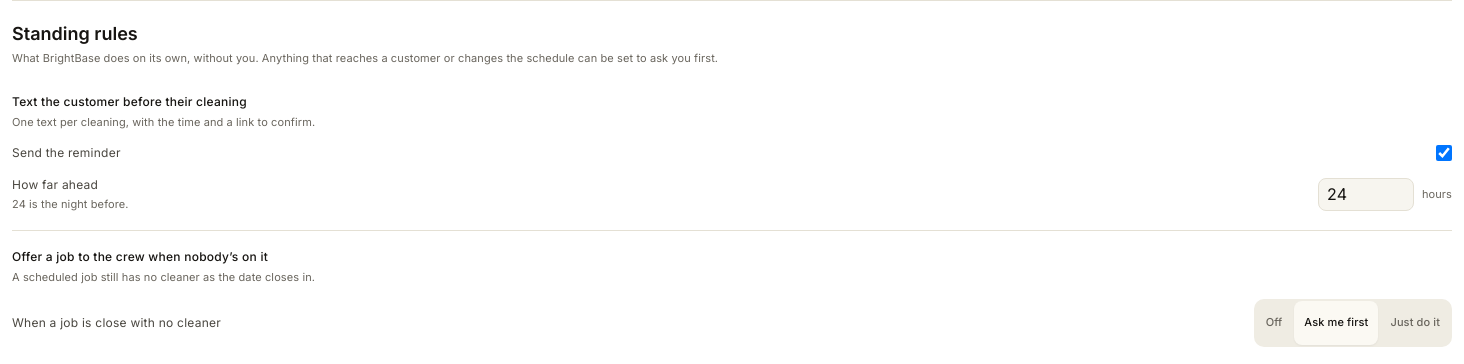
shows what came back, not what it sent
The width and height of the screenshot is (1464, 364).
Replace the text in the number field named "How far ahead" with "48" at (1366, 195), box top-left (1318, 178), bottom-right (1414, 211)
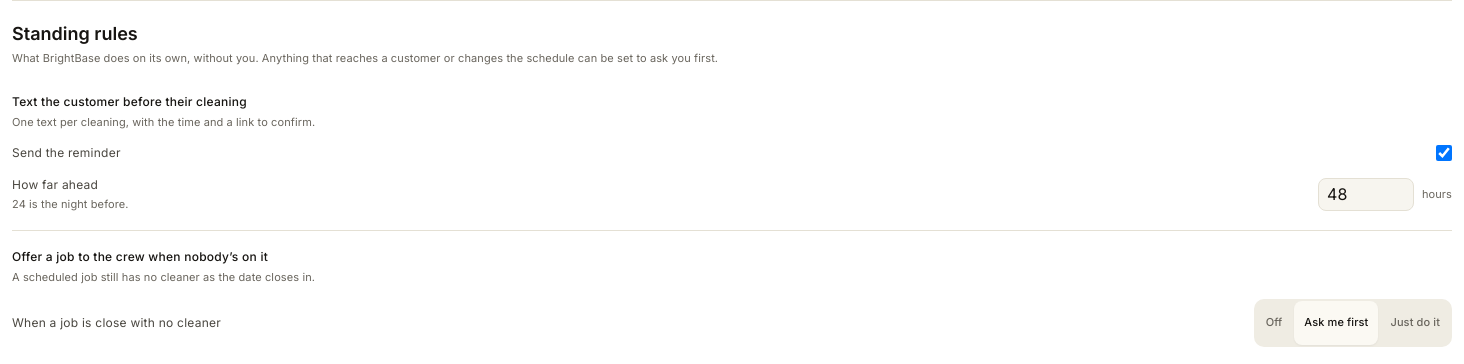
Leave the number field named "How far ahead", box top-left (1318, 178), bottom-right (1414, 211)
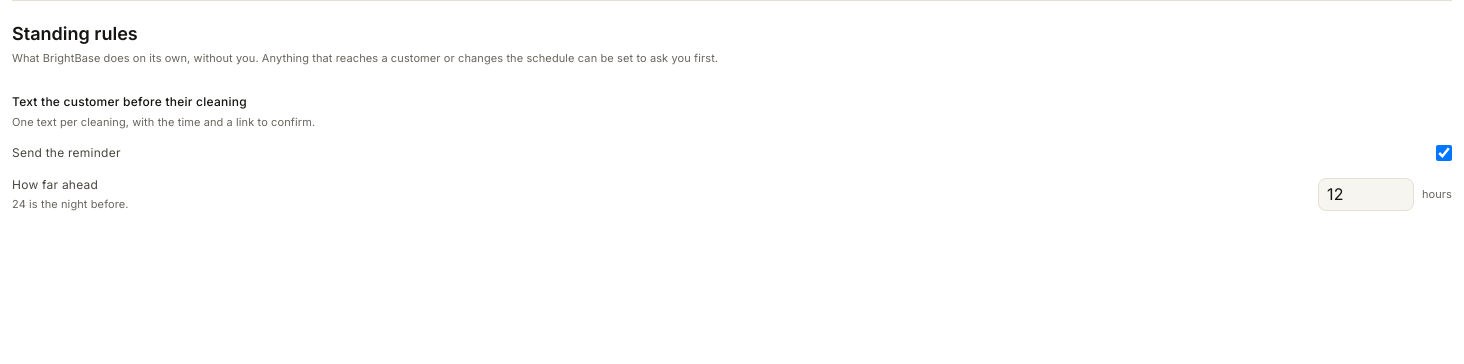
Check: the number field named "How far ahead" holds "12", box top-left (1318, 178), bottom-right (1414, 211)
